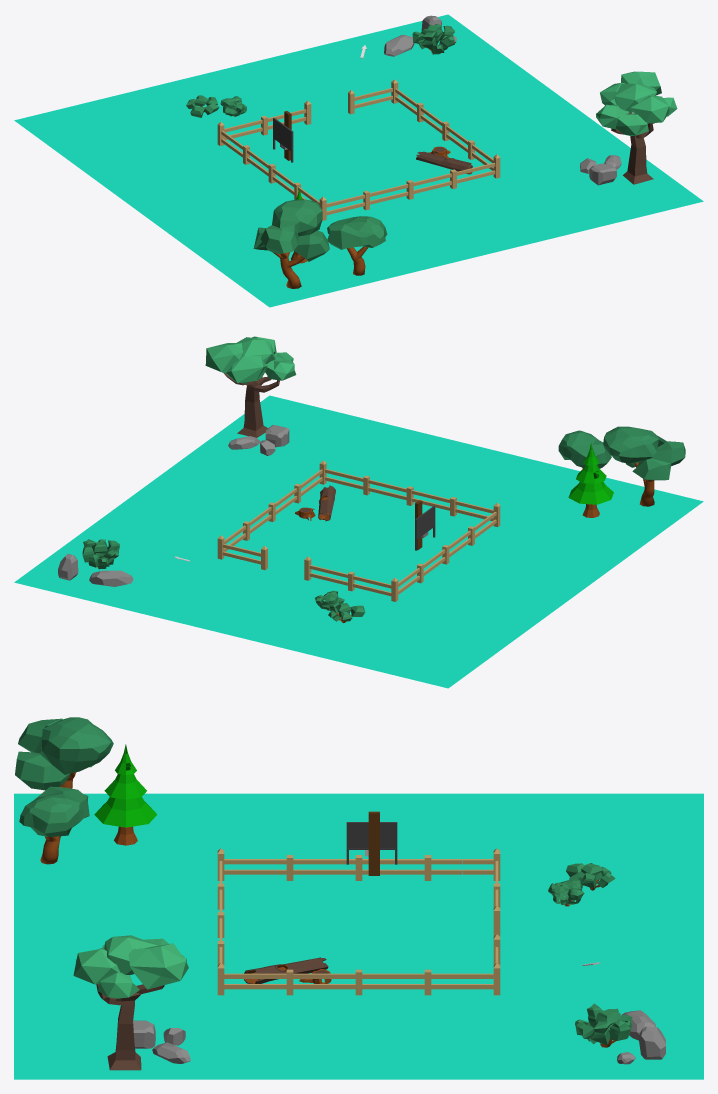
The model's file is region-1.glb.
3 views of the same model, one above another, from view 1: azimuth 30°, elevation 25°; view 2: azimuth 150°, elevation 25°; view 3: azimuth 270°, elevation 25° (orthographic). The views are drawn at different scales.
Visible parts, largest first — view 1: rock-6.2237, info-board-assembly-large; view 2: rock-6.2237, info-board-assembly-large; view 3: rock-6.2237, info-board-assembly-large, fence.
Boxes of the visible parts, left/top/right/bottom form: rock-6.2237: left=14, top=14, right=703, bottom=307; info-board-assembly-large: left=273, top=118, right=293, bottom=162; rock-6.2237: left=14, top=336, right=703, bottom=688; info-board-assembly-large: left=415, top=506, right=435, bottom=550; rock-6.2237: left=14, top=717, right=703, bottom=1079; info-board-assembly-large: left=346, top=822, right=397, bottom=864; fence: left=368, top=811, right=379, bottom=875.
Bounding box in the file's own units: 30 × 6.13 × 30.
